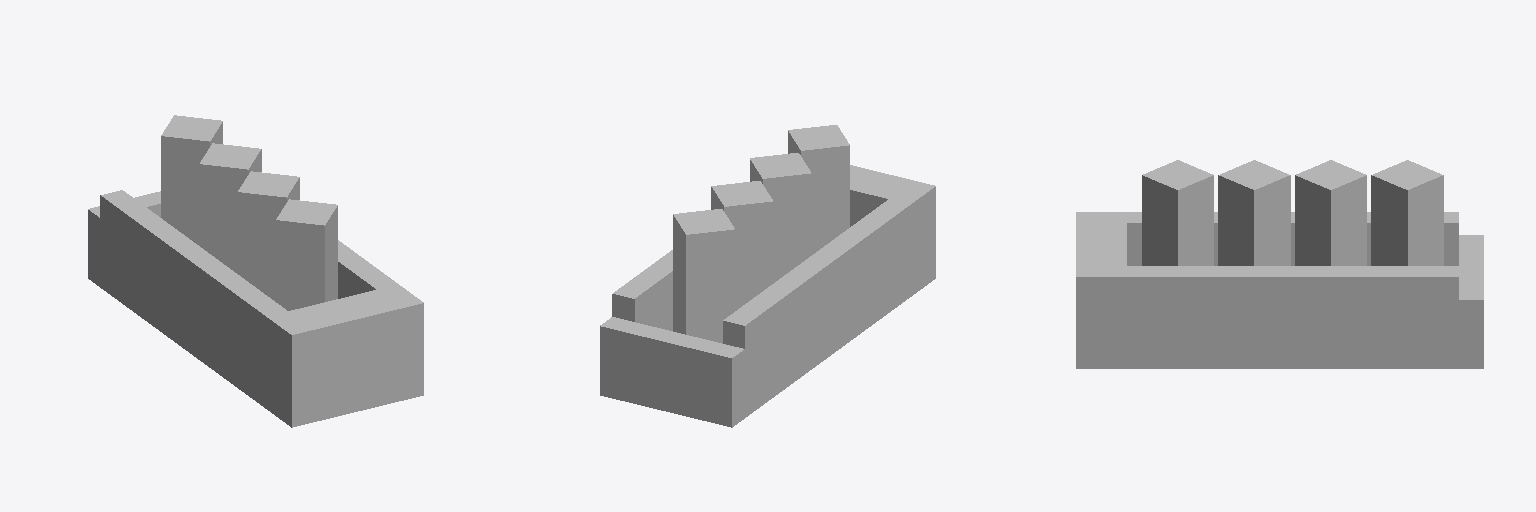
The model's file is shells.obj.
3 views of the same model, side by side, from view 1: azimuth 30°, elevation 25°; view 2: azimuth 150°, elevation 25°; view 3: azimuth 270°, elevation 25° (orthographic).
Visible parts, largest first — view 1: cube; view 2: cube; view 3: cube.
Boxes of the visible parts, <box> form: cube: <box>88,115,423,427</box>; cube: <box>600,125,935,427</box>; cube: <box>1076,160,1483,368</box>.
Bounding box in the file's own units: 0.375 × 0.4375 × 1.